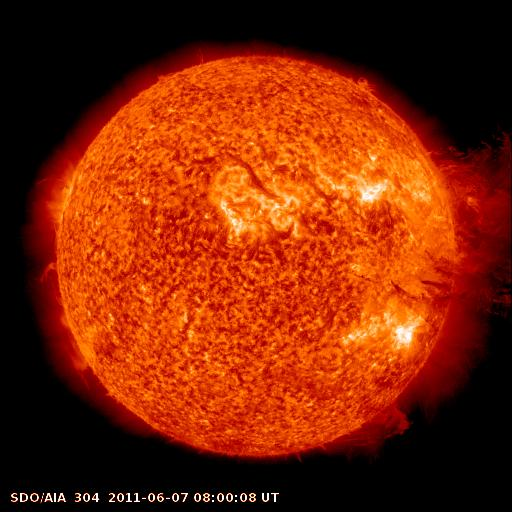prominence: (408, 116, 512, 403), (29, 258, 101, 391), (309, 399, 413, 463), (342, 62, 382, 106)
